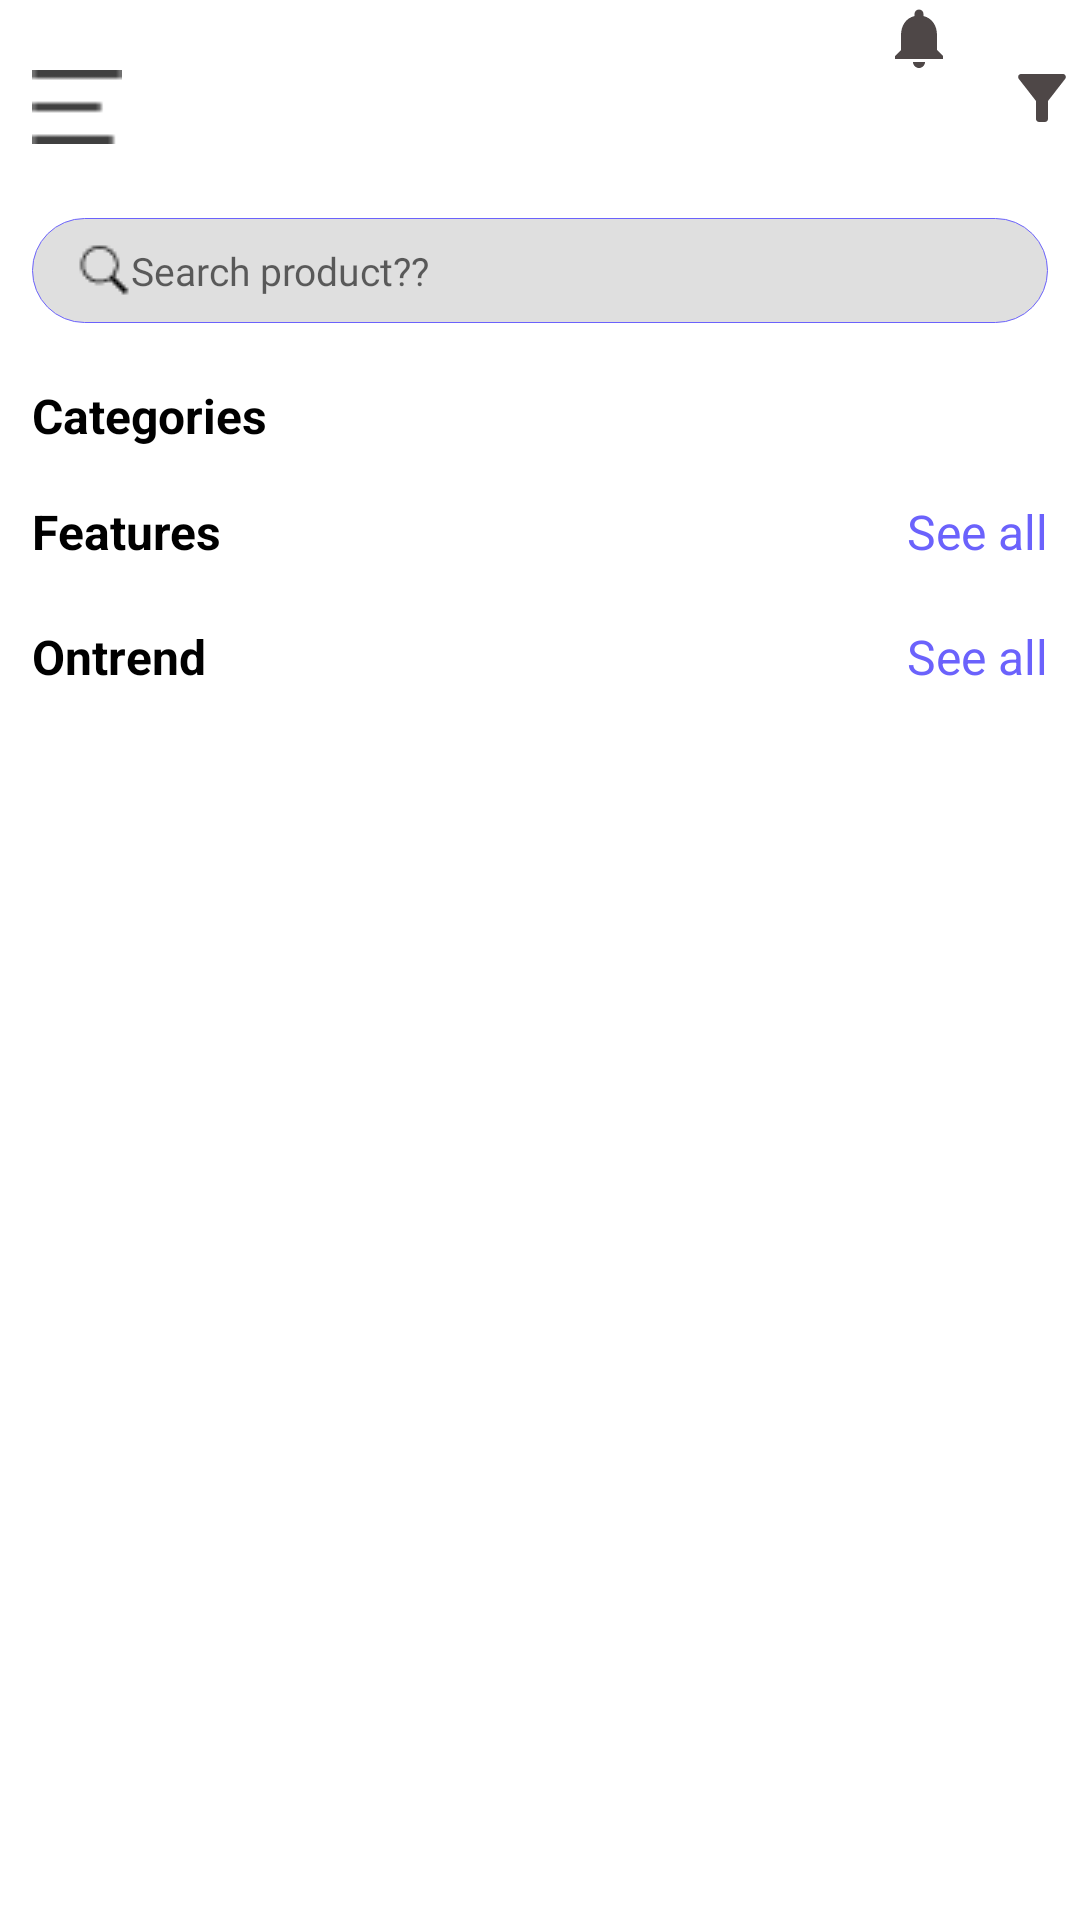

Screen size 1080x1920. Icon name, then its center in pixels as (x=x, y=y):
bar: (x=77, y=107)
filter: (x=1042, y=98)
notifications: (x=919, y=38)
